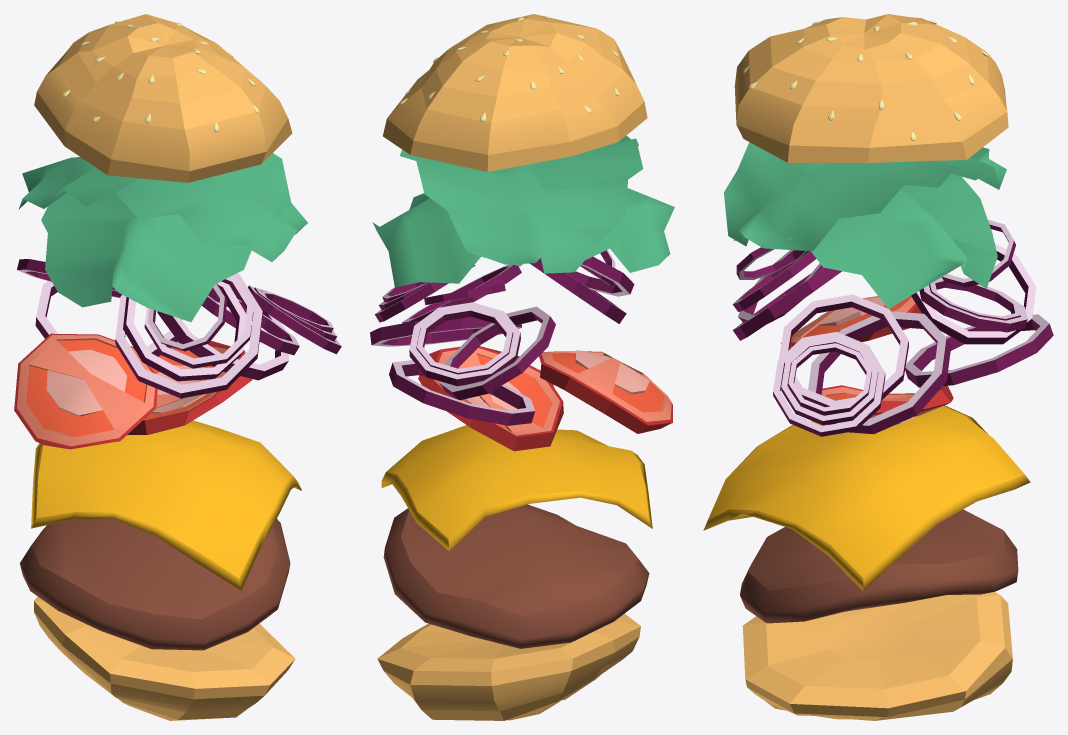
The model's file is burger-dissection-c2e96d.glb.
3 views of the same model, side by side, from view 1: azimuth 30°, elevation 25°; view 2: azimuth 150°, elevation 25°; view 3: azimuth 270°, elevation 25° (orthographic). The views are drawn at different scales.
Visible parts, largest first — view 1: PropMesh; view 2: PropMesh; view 3: PropMesh.
Part boxes in pixels (x1,y1,x2,y2): PropMesh: (14,14,341,720); PropMesh: (370,14,674,720); PropMesh: (703,14,1053,720).
Bounding box in the file's own units: 1.01 × 2.2 × 1.03.
